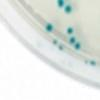Blue_green: (67, 35, 77, 45), (72, 40, 82, 50), (44, 22, 53, 32), (64, 5, 73, 15), (56, 0, 65, 8), (90, 59, 98, 68), (56, 44, 64, 51), (66, 28, 75, 34), (53, 39, 59, 45)
